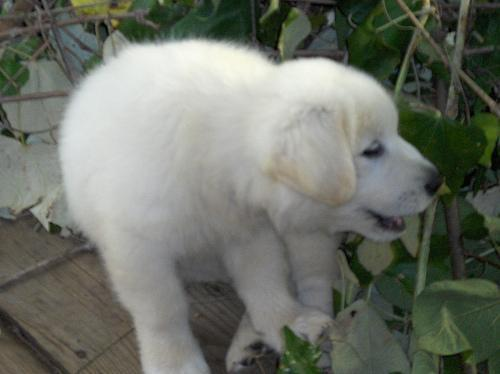Great_Pyrenees: (55, 36, 442, 373)
